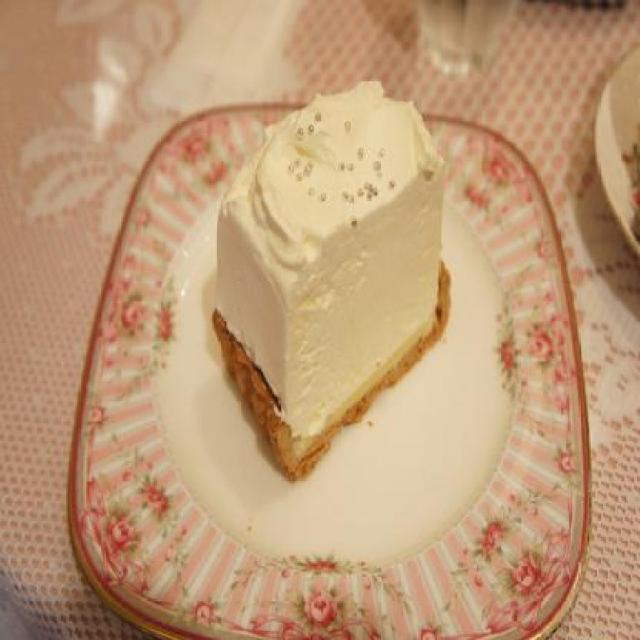Rare cheese cake: (174, 69, 493, 508)
